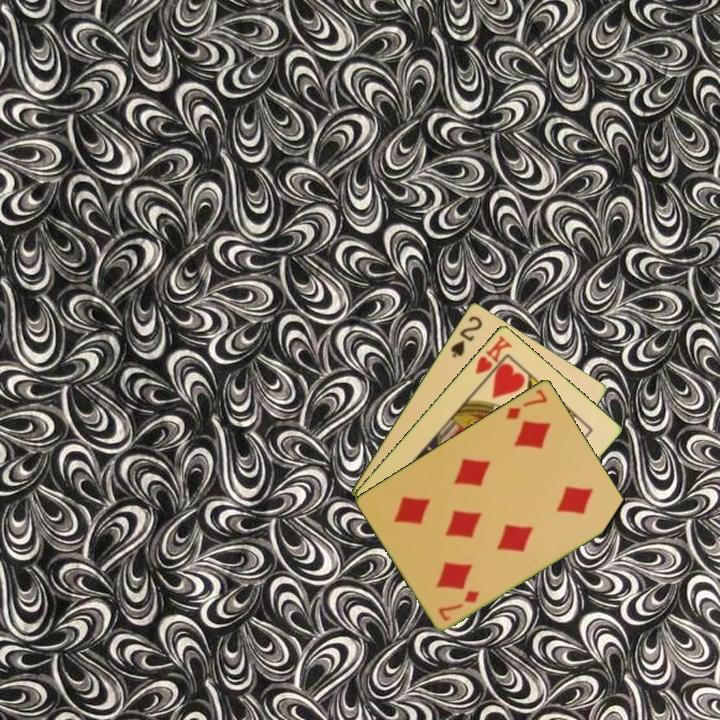2s: (447, 312, 485, 361)
7d: (435, 586, 483, 624), (502, 385, 550, 422)
Kh: (471, 332, 515, 386)
